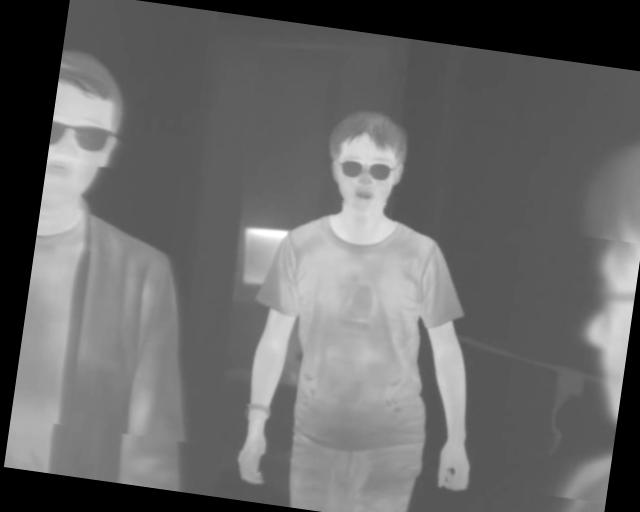face: (41, 44, 133, 213), (319, 103, 413, 220)
